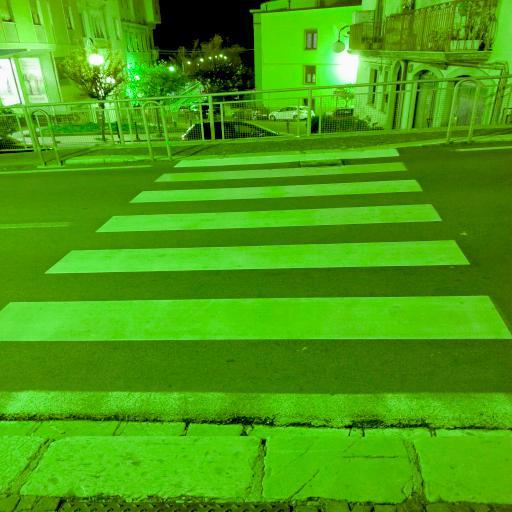crosswalk: (42, 200, 474, 277), (150, 145, 412, 184)
